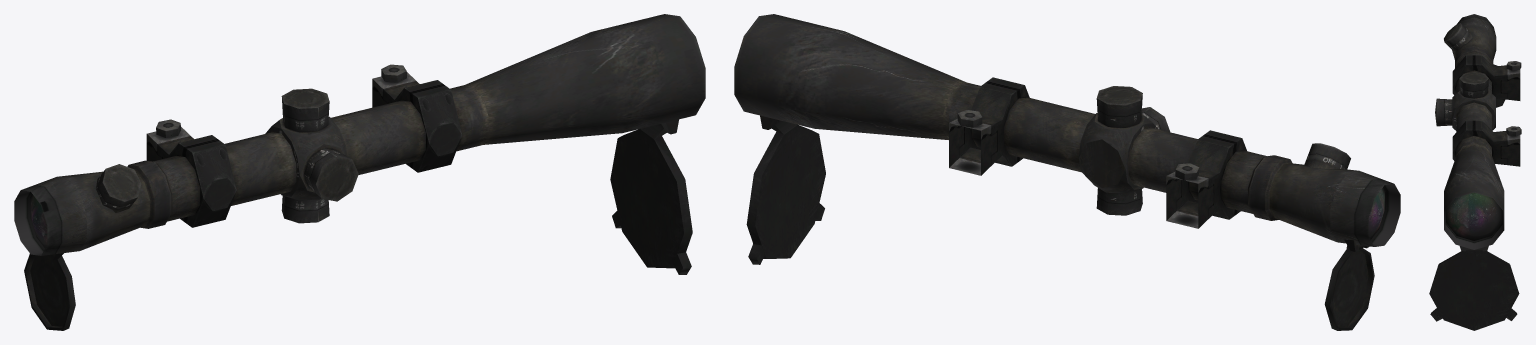
Rendered from t6_wpn_sniper_m82_scope_world_LOD0.obj.
3 renders of one model, left to right at view 1: azimuth 30°, elevation 25°; view 2: azimuth 150°, elevation 25°; view 3: azimuth 270°, elevation 25°, orthographic. The views are drawn at different scales.
Parts seen in each view (by area): view 1: mtl_t6_wpn_sniper_m82_scope_camo2, mtl_t6_wpn_sniper_m82_scope; view 2: mtl_t6_wpn_sniper_m82_scope_camo2, mtl_t6_wpn_sniper_m82_scope; view 3: mtl_t6_wpn_sniper_m82_scope, mtl_t6_wpn_sniper_m82_scope_camo2.
Boxes of the visible parts, <box> form: mtl_t6_wpn_sniper_m82_scope_camo2: <box>21,14,705,255</box>; mtl_t6_wpn_sniper_m82_scope: <box>14,64,692,330</box>; mtl_t6_wpn_sniper_m82_scope_camo2: <box>734,14,1393,246</box>; mtl_t6_wpn_sniper_m82_scope: <box>746,77,1400,330</box>; mtl_t6_wpn_sniper_m82_scope: <box>1429,23,1521,330</box>; mtl_t6_wpn_sniper_m82_scope_camo2: <box>1444,14,1520,219</box>.
Bounding box in the file's own units: 34.13 × 12.87 × 7.07.
2 materials, 2 textured.
